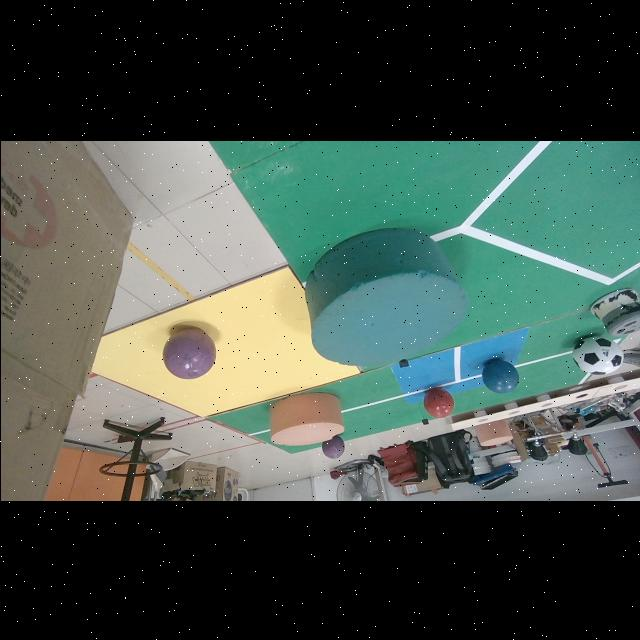B: (481, 358, 518, 392)
P: (161, 328, 215, 379), (321, 434, 344, 458)
R: (422, 386, 454, 418)
